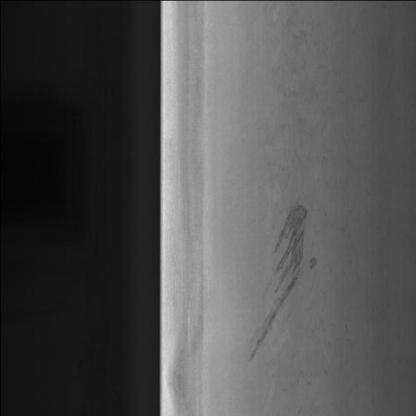water_spot: (245, 186, 325, 368)
